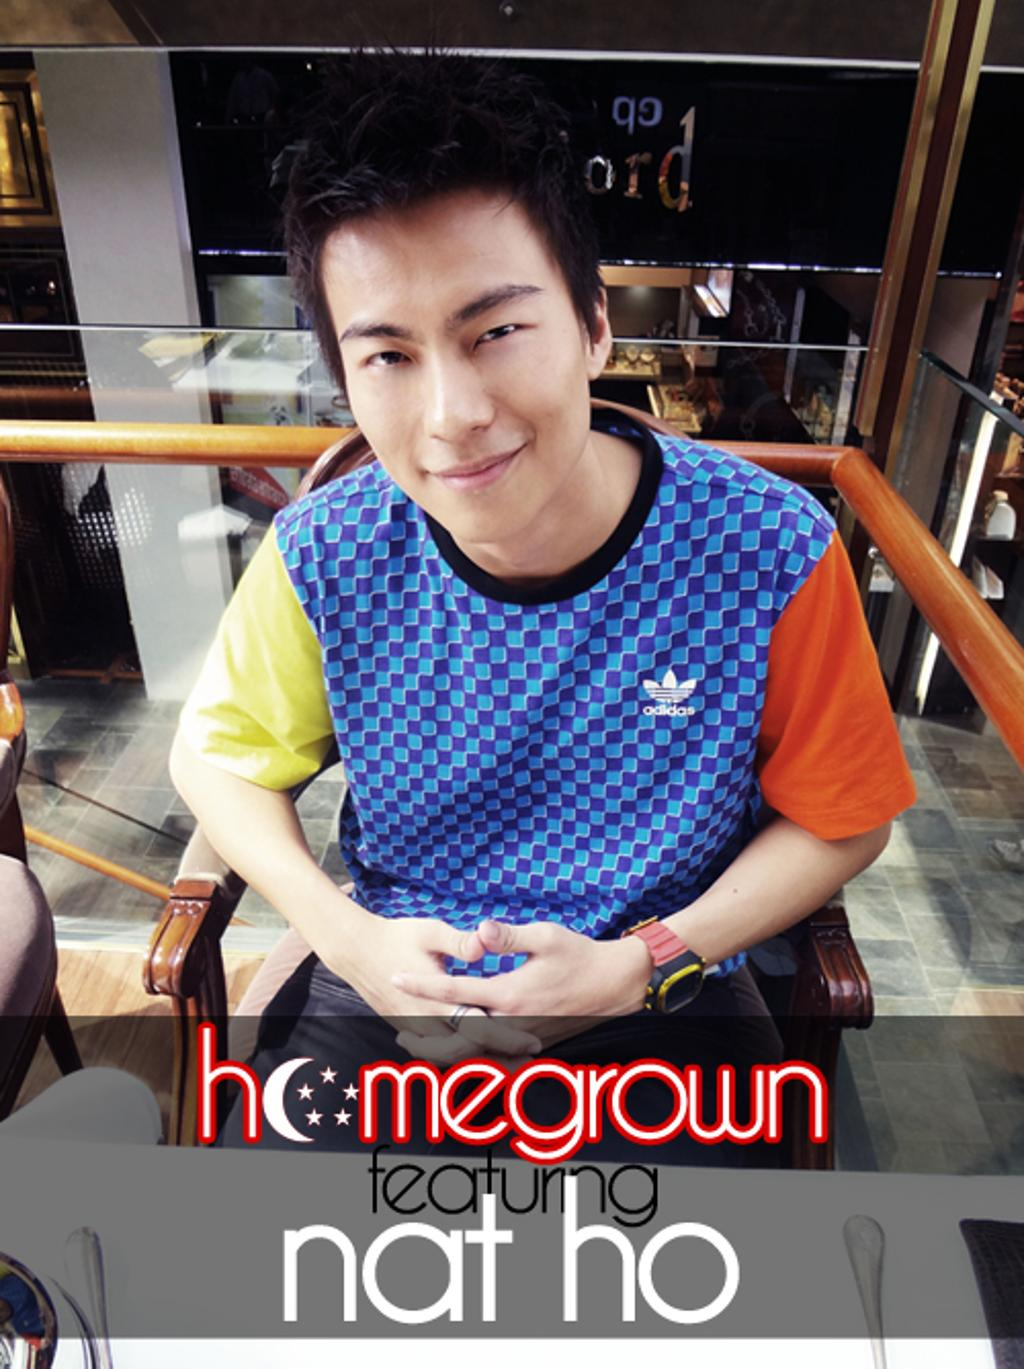face: (334, 195, 567, 527)
